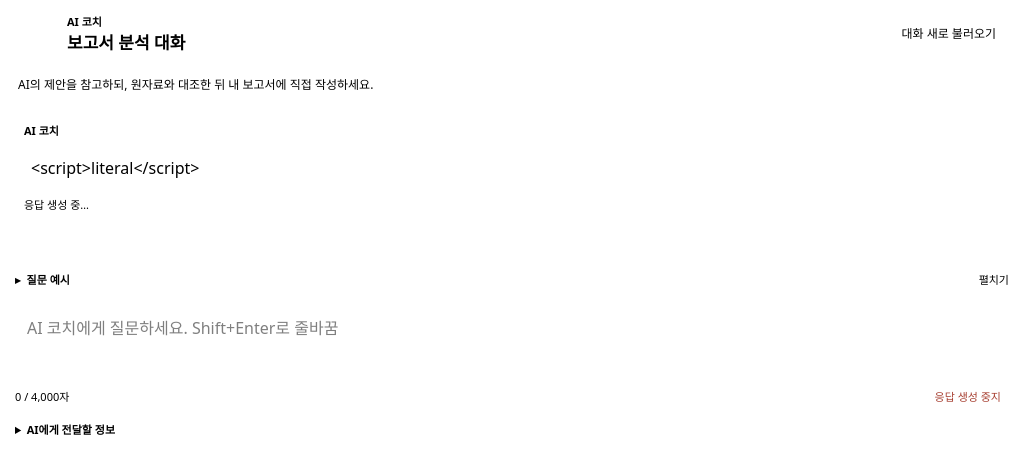
Test: restores a running request, can cancel it, and preserves terminal state
The image size is (1024, 452).
Step 1. Click the button "응답 생성 중지" → (968, 397), box [926, 382, 1009, 412]
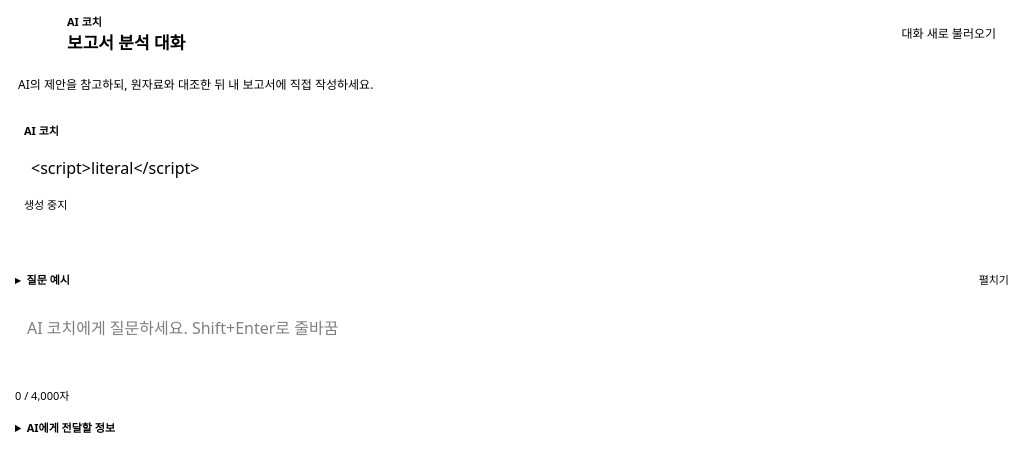
Expected: the text "생성 중지" is shown, [24, 198, 67, 214]
Expected: the button "응답 생성 중지" is gone
